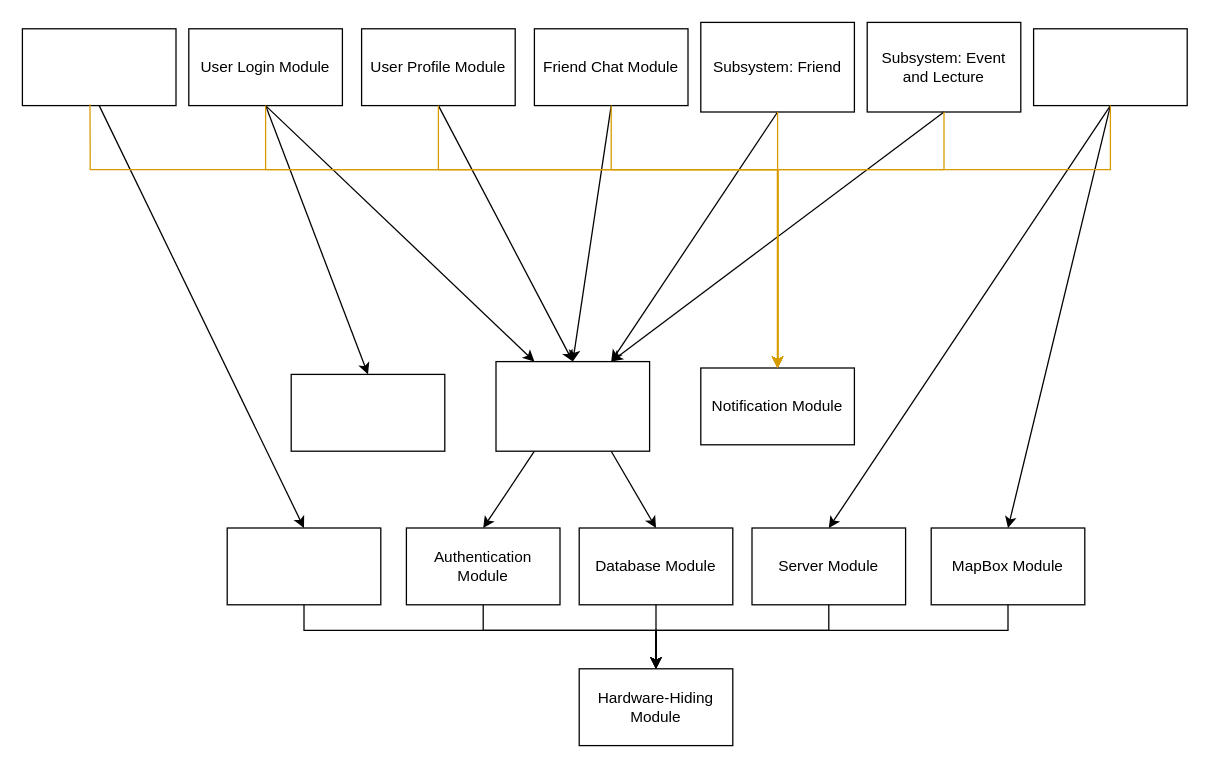
Some shapes in this 1210 by 768 pixel diagram are drawn without their labels. The shapes that lost their labels are listed below. From the top down, each one's box as (x1, y1, x2, y2) in pixels, then its label:
(21, 28, 176, 106): AR Interface Module
(1032, 28, 1187, 106): Real-time Map Module
(290, 373, 445, 451): User Module
(495, 360, 650, 451): Subsystem: Connectors
(226, 527, 381, 605): AR Camera Module
